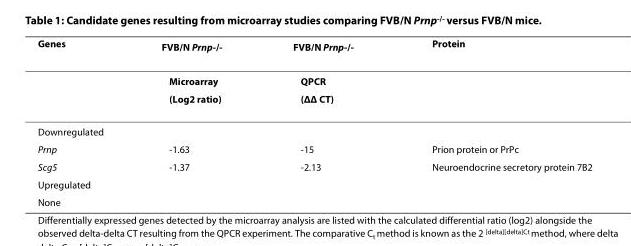table: (36, 36, 591, 207)
table column: (392, 36, 591, 207), (256, 36, 392, 207), (131, 36, 256, 207), (36, 36, 131, 207)
table column header: (36, 36, 591, 63)
table projected row header: (36, 114, 591, 139), (36, 175, 591, 192)
table row: (36, 36, 591, 63), (36, 63, 591, 89), (36, 89, 591, 114), (36, 114, 591, 139), (36, 139, 591, 157), (36, 157, 591, 175), (36, 175, 591, 192), (36, 192, 591, 207)
